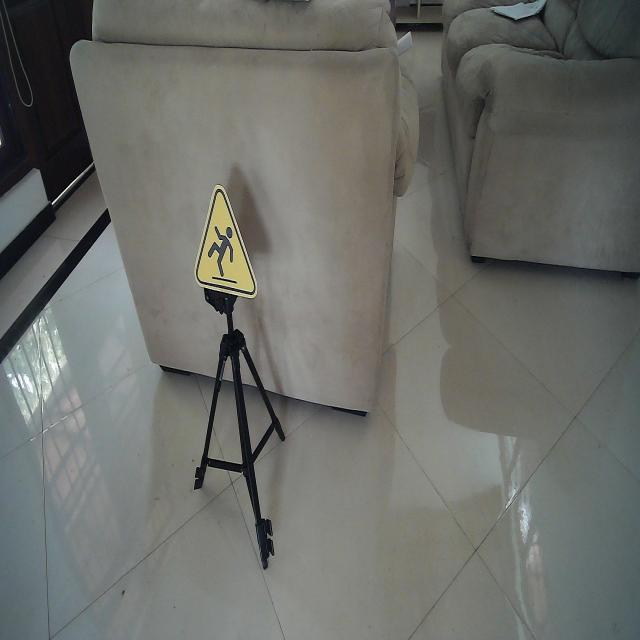slippery_sign: (192, 182, 260, 302)
